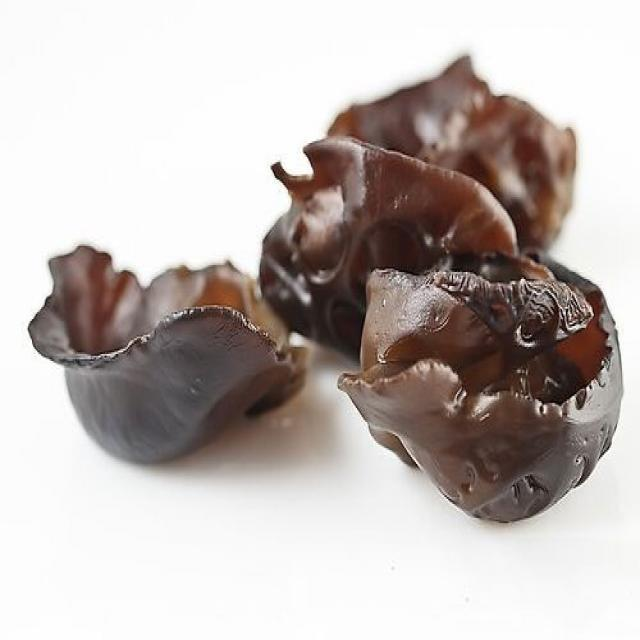Auricularia auricula: (259, 51, 624, 525), (33, 243, 310, 468)
